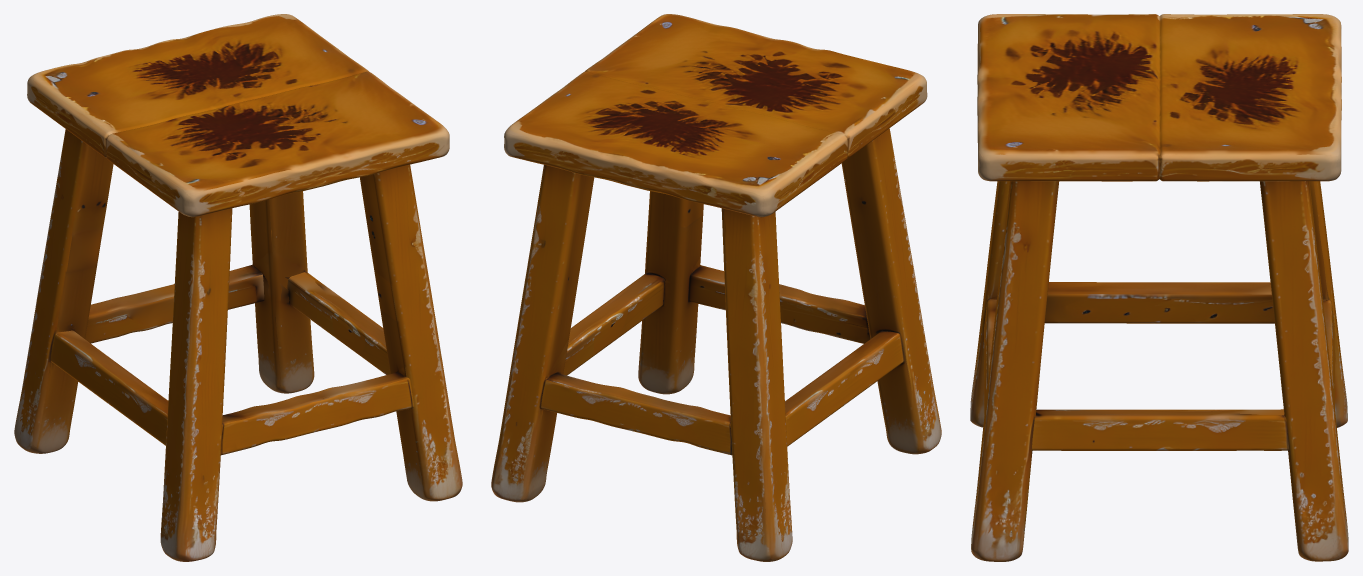
The model's file is SM_DiningChair.fbx.
3 views of the same model, side by side, from view 1: azimuth 30°, elevation 25°; view 2: azimuth 150°, elevation 25°; view 3: azimuth 270°, elevation 25° (orthographic). The views are drawn at different scales.
Visible parts, largest first — view 1: texture_pbr_v128; view 2: texture_pbr_v128; view 3: texture_pbr_v128.
Part boxes in pixels (bbox=[...]): texture_pbr_v128: bbox=[14, 14, 462, 561]; texture_pbr_v128: bbox=[491, 14, 941, 561]; texture_pbr_v128: bbox=[970, 14, 1348, 561].
Bounding box in the file's own units: 65.28 × 79.88 × 67.67.
Materials: 1 (1 with a texture image).
